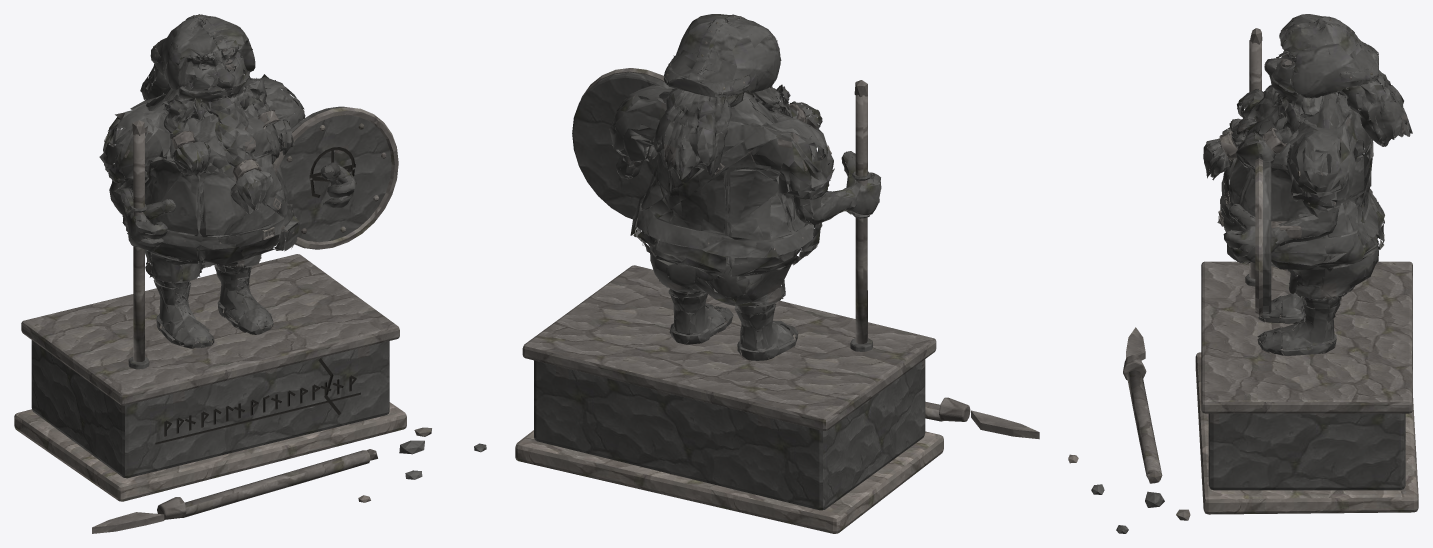
Rendered from th_guard_snapped.glb.
3 renders of one model, left to right at view 1: azimuth 30°, elevation 25°; view 2: azimuth 150°, elevation 25°; view 3: azimuth 270°, elevation 25°, orthographic. The views are drawn at different scales.
Visible parts, largest first — view 1: model; view 2: model; view 3: model.
Boxes of the visible parts, <box> form: model: <box>14,14,486,533</box>; model: <box>515,14,1039,533</box>; model: <box>1068,14,1418,533</box>.
Bounding box in the file's own units: 1.89 × 1.9 × 1.42.
4 materials, 3 textured.
